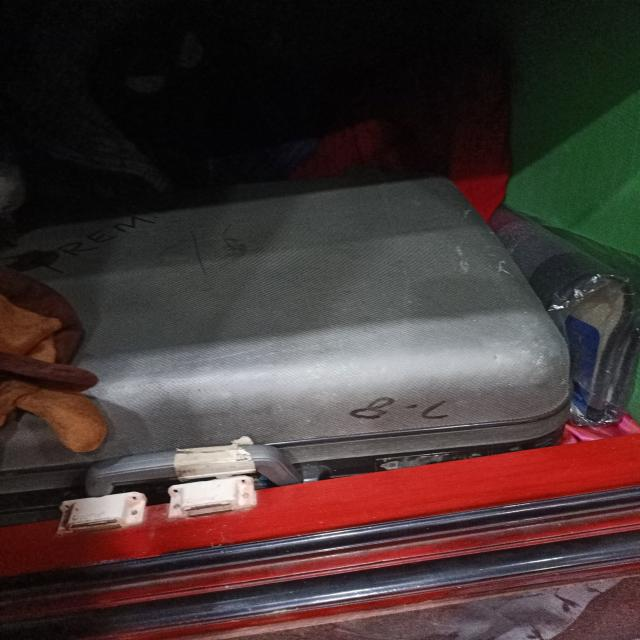suitcaserotation: (0, 161, 576, 528)
